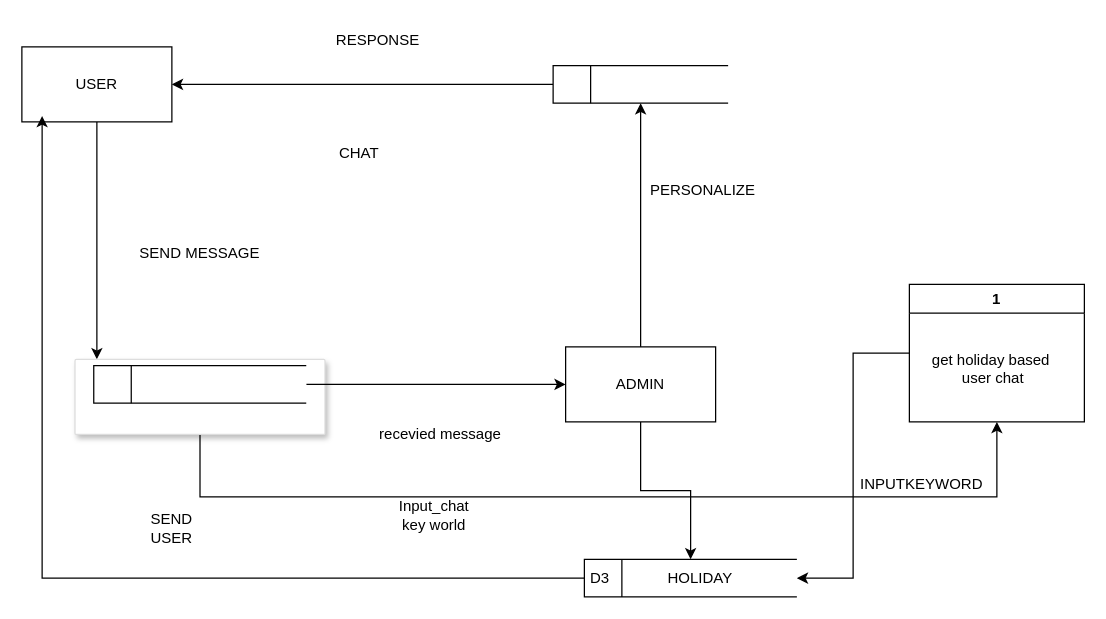
This 1106x619 diagram has some shape labels left out. The centre of each missing label's shape, as x and y in pixels:
"D1 CHAT" belongs at (x=199, y=383).
"D2 TRACKING" belongs at (x=640, y=83).
